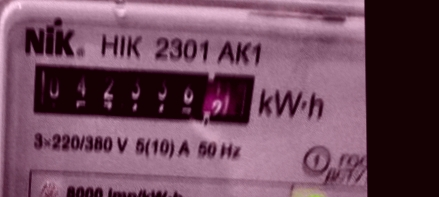0: (47, 71, 60, 100)
2: (99, 72, 117, 99)
3: (126, 72, 142, 101), (155, 72, 169, 100)
4: (73, 71, 89, 99)
6: (180, 78, 195, 105)
screen: (22, 51, 263, 135)
